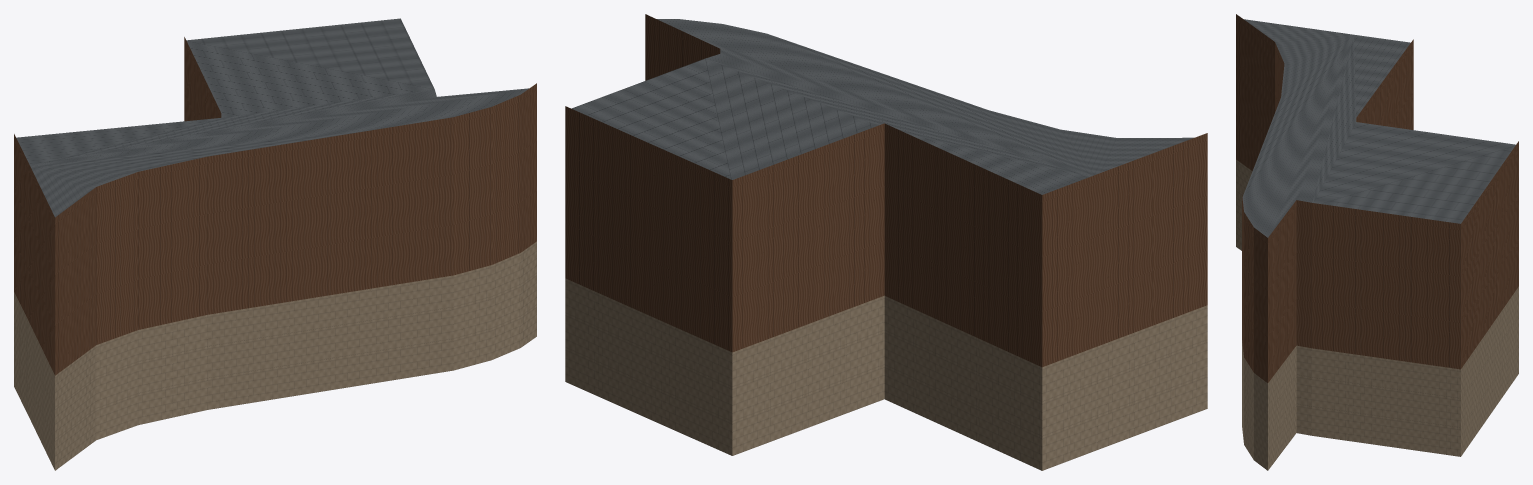
File: bld_c8_39_513.gltf
3 renders of one model, left to right at view 1: azimuth 30°, elevation 25°; view 2: azimuth 150°, elevation 25°; view 3: azimuth 270°, elevation 25°, orthographic. The views are drawn at different scales.
Visible parts, largest first — view 1: bld_c8_39_513; view 2: bld_c8_39_513; view 3: bld_c8_39_513.
Boxes of the visible parts, left/top/right/bottom form: bld_c8_39_513: left=14, top=18, right=536, bottom=470; bld_c8_39_513: left=565, top=14, right=1207, bottom=470; bld_c8_39_513: left=1236, top=14, right=1518, bottom=470.
Size of the model in its own units: 27.99 by 13.58 by 14.93.
Materials: 4 (4 with a texture image).
